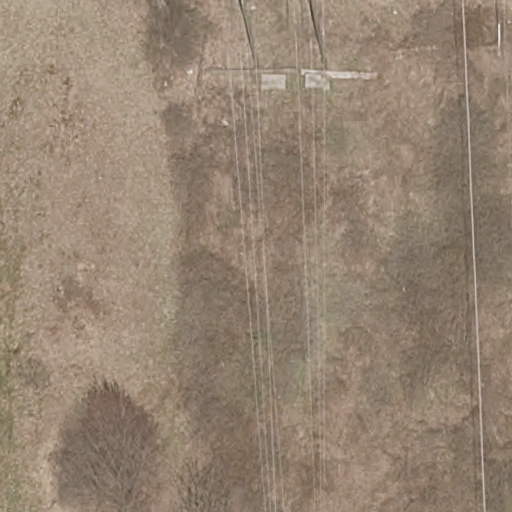TT: (237, 1, 378, 89)
